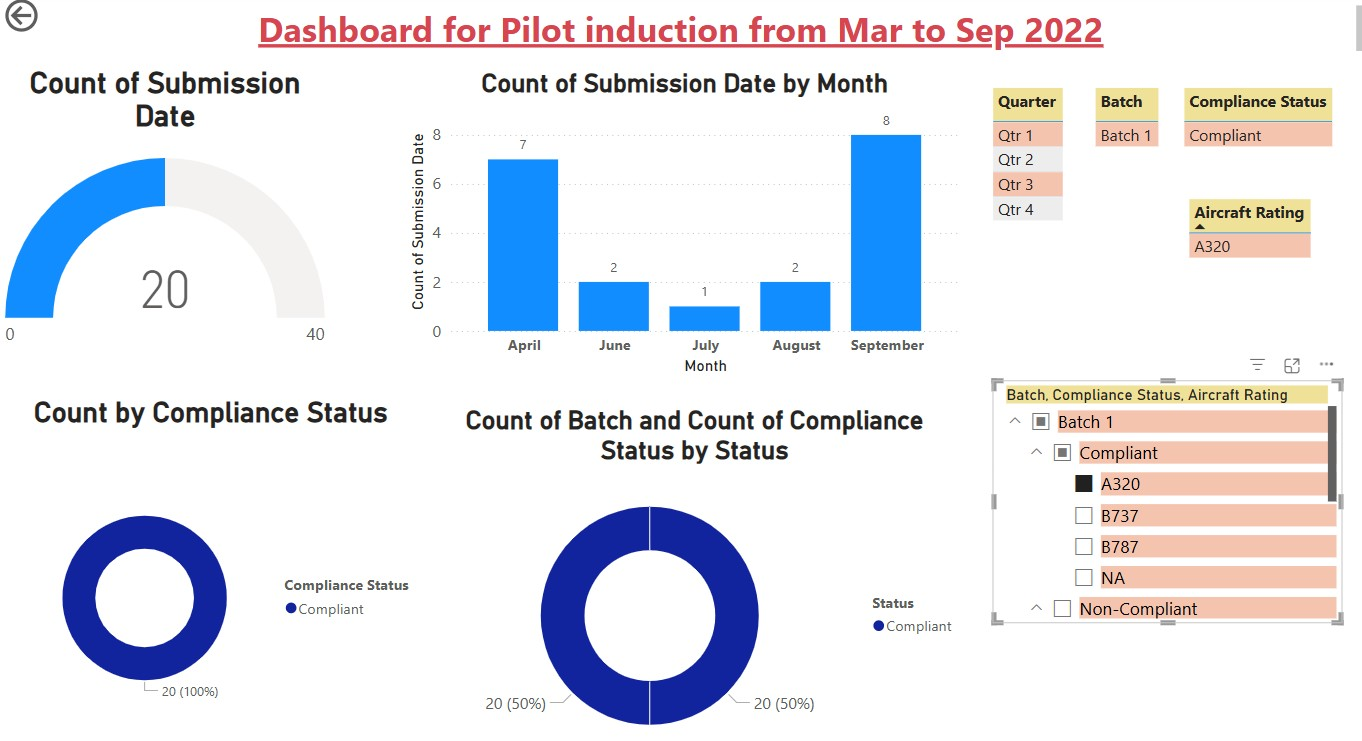

What the dashboard file says about the page in this screenshot:
{"tool":"powerbi","page":{"name":"Page 1","canvas":[1280,720],"ordinal":0},"visuals":[{"type":"donutChart","fields":{"Category":["export?format=csv&id=1RSt7JTLuaaMvQIgaXB1fvxA7Anrv1DO8XRaBTItq9nI&gid=177511 (2).Compliance Status"],"Y":["CountNonNull(export?format=csv&id=1RSt7JTLuaaMvQIgaXB1fvxA7Anrv1DO8XRaBTItq9nI&gid=177511 (2).Compliance Status)"]},"box":[0,373.2,392.5,347.2],"z":0},{"type":"columnChart","fields":{"Category":["export?format=csv&id=1RSt7JTLuaaMvQIgaXB1fvxA7Anrv1DO8XRaBTItq9nI&gid=177511 (2).Submission Date.Variation.Date Hierarch"],"Y":["CountNonNull(export?format=csv&id=1RSt7JTLuaaMvQIgaXB1fvxA7Anrv1DO8XRaBTItq9nI&gid=177511 (2).Submission Date)"]},"box":[376,68.6,522.8,290.9],"z":1000},{"type":"gauge","fields":{"Y":["CountNonNull(export?format=csv&id=1RSt7JTLuaaMvQIgaXB1fvxA7Anrv1DO8XRaBTItq9nI&gid=177511 (2).Submission Date)"]},"box":[0,65.9,307.4,290.9],"z":2000},{"type":"tableEx","fields":{"Values":["export?format=csv&id=1RSt7JTLuaaMvQIgaXB1fvxA7Anrv1DO8XRaBTItq9nI&gid=177511 (2).Compliance Status"]},"box":[1095,82.9,174.3,104.3],"z":3000},{"type":"slicer","fields":{"Values":["export?format=csv&id=1RSt7JTLuaaMvQIgaXB1fvxA7Anrv1DO8XRaBTItq9nI&gid=177511 (2).Batch","export?format=csv&id=1RSt7JTLuaaMvQIgaXB1fvxA7Anrv1DO8XRaBTItq9nI&gid=177511 (2).Compliance Status","export?format=csv&id=1RSt7JTLuaaMvQIgaXB1fvxA7Anrv1DO8XRaBTItq9nI&gid=177511 (2).Aircraft Rating"]},"box":[923.5,359.5,325.2,226.4],"z":4000},{"type":"tableEx","fields":{"Values":["export?format=csv&id=1RSt7JTLuaaMvQIgaXB1fvxA7Anrv1DO8XRaBTItq9nI&gid=177511 (2).Batch"]},"box":[1012.7,82.9,87.8,168.8],"z":5000},{"type":"donutChart","fields":{"Category":["export?format=csv&id=1RSt7JTLuaaMvQIgaXB1fvxA7Anrv1DO8XRaBTItq9nI&gid=177511 (2).Compliance Status"],"Y":["CountNonNull(export?format=csv&id=1RSt7JTLuaaMvQIgaXB1fvxA7Anrv1DO8XRaBTItq9nI&gid=177511 (2).Batch)","CountNonNull(export?format=csv&id=1RSt7JTLuaaMvQIgaXB1fvxA7Anrv1DO8XRaBTItq9nI&gid=177511 (2).Compliance Status)"]},"box":[392.5,382.8,506.3,337.6],"z":6000},{"type":"tableEx","fields":{"Values":["export?format=csv&id=1RSt7JTLuaaMvQIgaXB1fvxA7Anrv1DO8XRaBTItq9nI&gid=177511 (2).Submission Date.Variation.Date Hierarch"]},"box":[918,82.9,94.7,152.3],"z":7000},{"type":"textbox","box":[0,5.5,1274.8,60.4],"z":8000},{"type":"tableEx","fields":{"Values":["export?format=csv&id=1RSt7JTLuaaMvQIgaXB1fvxA7Anrv1DO8XRaBTItq9nI&gid=177511 (2).Aircraft Rating"]},"box":[1100.5,186.6,148.2,152.3],"z":9000},{"type":"actionButton","box":[0,0,100,40],"z":10000}]}

Visuals, with their boxes on the page's 1280x720 design canvas (x1, y1, x2, y2). These are canvas units, not pixel positions in the 1362x741 screenshot, which may show the page scaled, cropped or inside an application window:
donutChart - export?format=csv&id=1RSt7JTLuaaMvQIgaXB1fvxA7Anrv1DO8XRaBTItq9nI&gid=177511 (2).Compliance Status x CountNonNull(export?format=csv&id=1RSt7JTLuaaMvQIgaXB1fvxA7Anrv1DO8XRaBTItq9nI&gid=177511 (2).Compliance Status): {"x1": 0, "y1": 373, "x2": 392, "y2": 720}
columnChart - export?format=csv&id=1RSt7JTLuaaMvQIgaXB1fvxA7Anrv1DO8XRaBTItq9nI&gid=177511 (2).Submission Date.Variation.Date Hierarch x CountNonNull(export?format=csv&id=1RSt7JTLuaaMvQIgaXB1fvxA7Anrv1DO8XRaBTItq9nI&gid=177511 (2).Submission Date): {"x1": 376, "y1": 69, "x2": 899, "y2": 360}
gauge - CountNonNull(export?format=csv&id=1RSt7JTLuaaMvQIgaXB1fvxA7Anrv1DO8XRaBTItq9nI&gid=177511 (2).Submission Date): {"x1": 0, "y1": 66, "x2": 307, "y2": 357}
tableEx - export?format=csv&id=1RSt7JTLuaaMvQIgaXB1fvxA7Anrv1DO8XRaBTItq9nI&gid=177511 (2).Compliance Status: {"x1": 1095, "y1": 83, "x2": 1269, "y2": 187}
slicer - export?format=csv&id=1RSt7JTLuaaMvQIgaXB1fvxA7Anrv1DO8XRaBTItq9nI&gid=177511 (2).Batch x export?format=csv&id=1RSt7JTLuaaMvQIgaXB1fvxA7Anrv1DO8XRaBTItq9nI&gid=177511 (2).Compliance Status: {"x1": 924, "y1": 360, "x2": 1249, "y2": 586}
tableEx - export?format=csv&id=1RSt7JTLuaaMvQIgaXB1fvxA7Anrv1DO8XRaBTItq9nI&gid=177511 (2).Batch: {"x1": 1013, "y1": 83, "x2": 1100, "y2": 252}
donutChart - export?format=csv&id=1RSt7JTLuaaMvQIgaXB1fvxA7Anrv1DO8XRaBTItq9nI&gid=177511 (2).Compliance Status x CountNonNull(export?format=csv&id=1RSt7JTLuaaMvQIgaXB1fvxA7Anrv1DO8XRaBTItq9nI&gid=177511 (2).Batch): {"x1": 392, "y1": 383, "x2": 899, "y2": 720}
tableEx - export?format=csv&id=1RSt7JTLuaaMvQIgaXB1fvxA7Anrv1DO8XRaBTItq9nI&gid=177511 (2).Submission Date.Variation.Date Hierarch: {"x1": 918, "y1": 83, "x2": 1013, "y2": 235}
textbox: {"x1": 0, "y1": 6, "x2": 1275, "y2": 66}
tableEx - export?format=csv&id=1RSt7JTLuaaMvQIgaXB1fvxA7Anrv1DO8XRaBTItq9nI&gid=177511 (2).Aircraft Rating: {"x1": 1100, "y1": 187, "x2": 1249, "y2": 339}
actionButton: {"x1": 0, "y1": 0, "x2": 100, "y2": 40}
